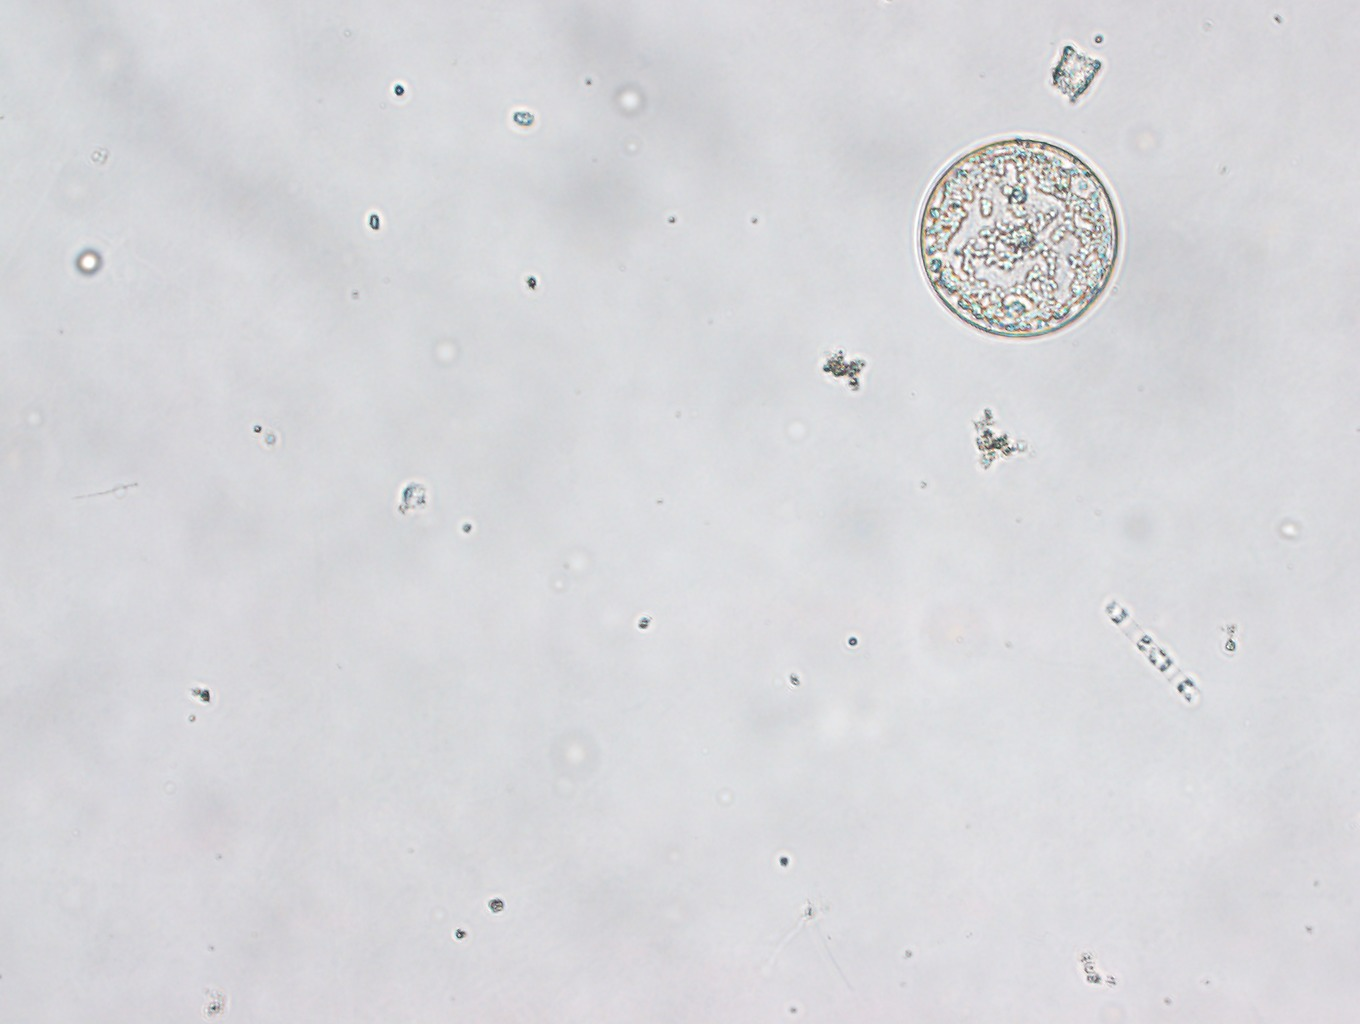coscinodiscus: (915, 136, 1122, 343)
skeletonema: (1101, 600, 1206, 707)
